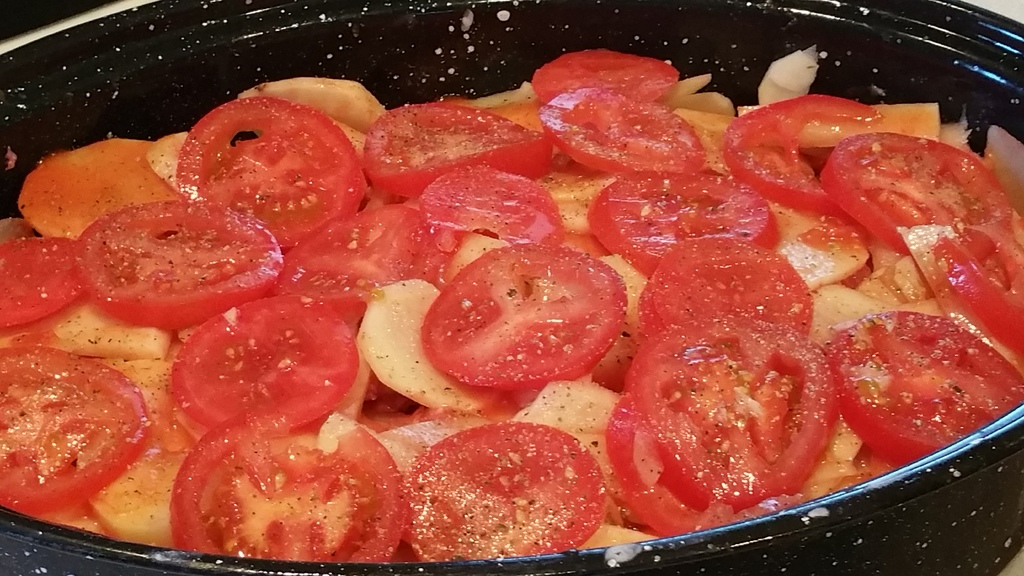Tomato: (0, 35, 1023, 560)
